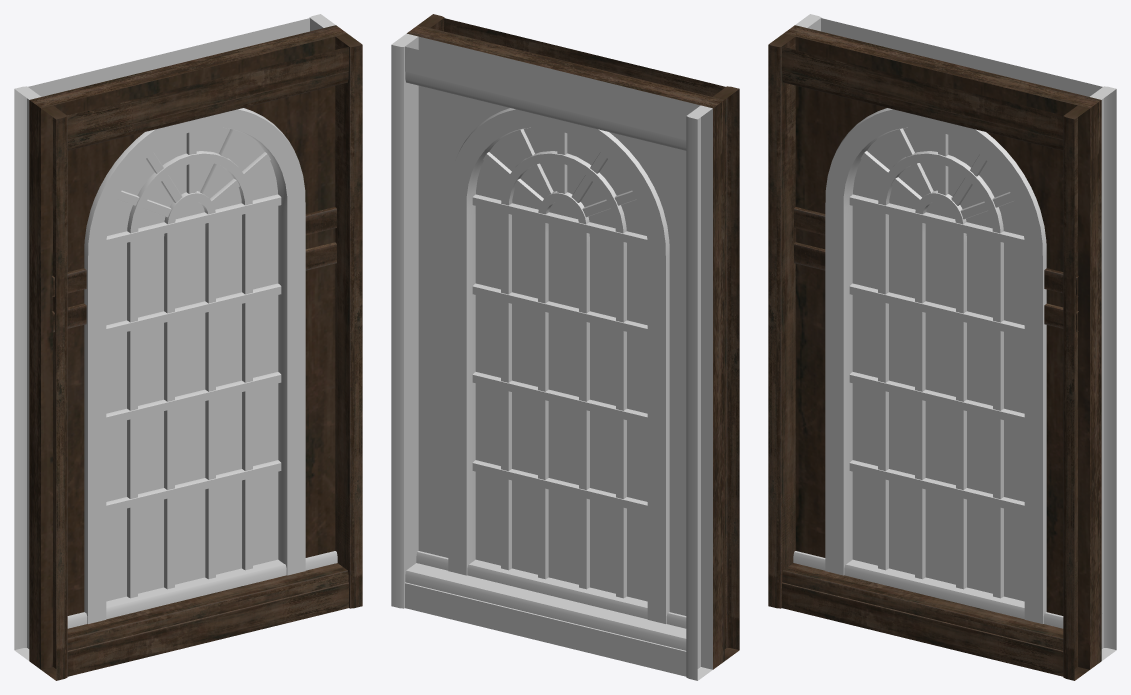
The model's file is Window.fbx.
The picture shows the model from 3 angles, left to right: view 1: azimuth 30°, elevation 25°; view 2: azimuth 150°, elevation 25°; view 3: azimuth 330°, elevation 25°; orthographic projection.
Visible parts, largest first — view 1: SM_WindowLargeC_LOD0; view 2: SM_WindowLargeC_LOD0; view 3: SM_WindowLargeC_LOD0.
Boxes of the visible parts, bbox=[...] form: SM_WindowLargeC_LOD0: bbox=[14, 14, 362, 680]; SM_WindowLargeC_LOD0: bbox=[391, 14, 739, 680]; SM_WindowLargeC_LOD0: bbox=[768, 14, 1116, 680].
Size of the model in its own units: 200 by 350 by 47.41.
